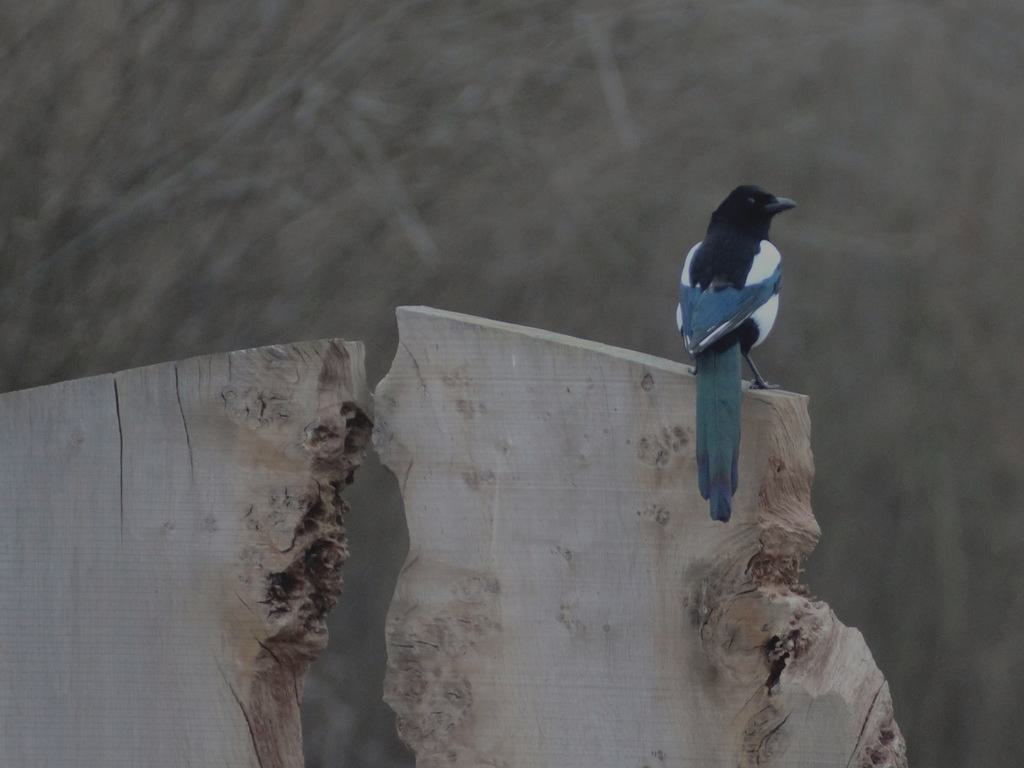PicaPica: (675, 184, 797, 523)
